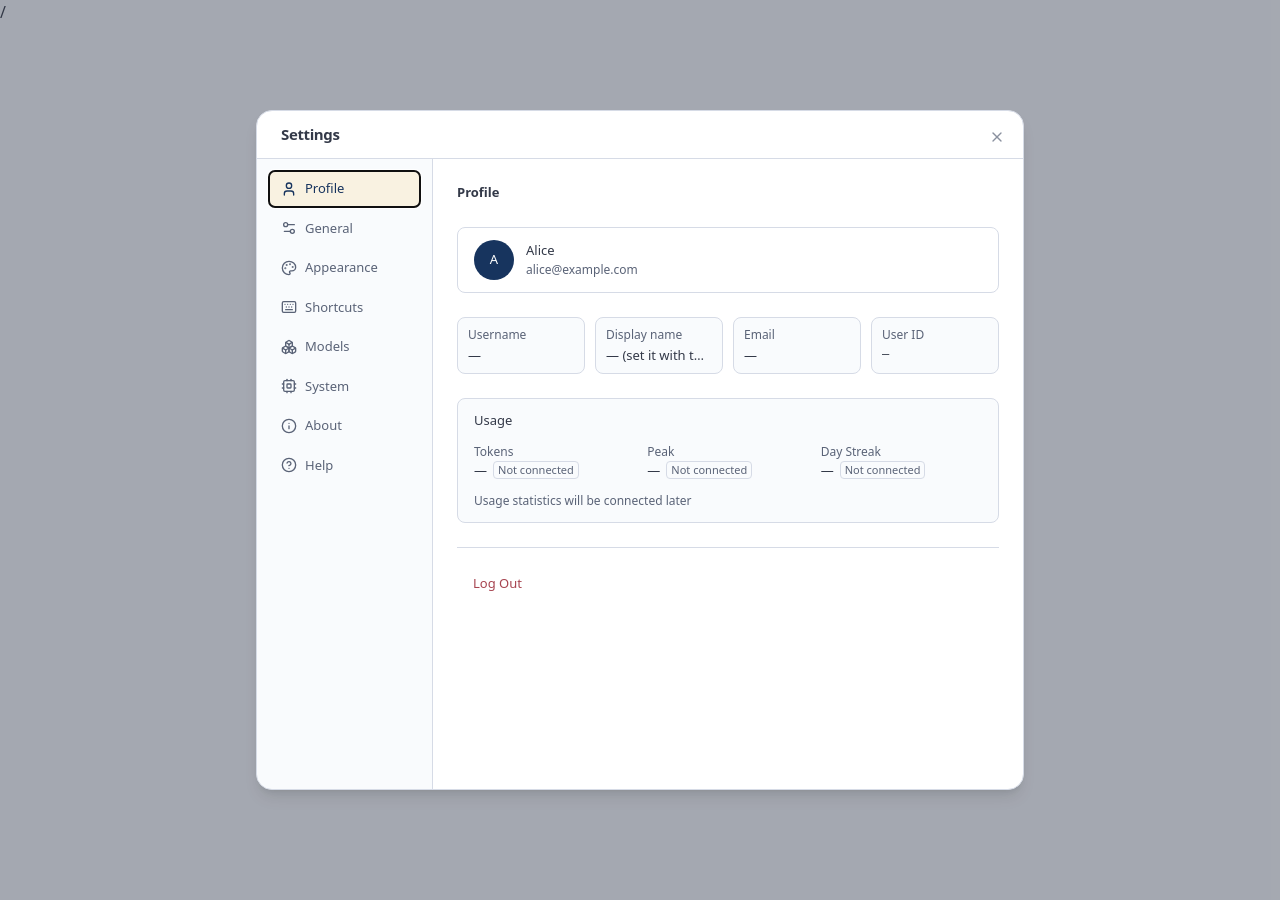
Scenario: SettingsDialog › B-07：匿名用户 → 添加按钮禁用（登录后管理模型）
The image size is (1280, 900).
Click the button with test id "settings-dialog-nav-models".
click(344, 347)  # box [269,329,420,364]
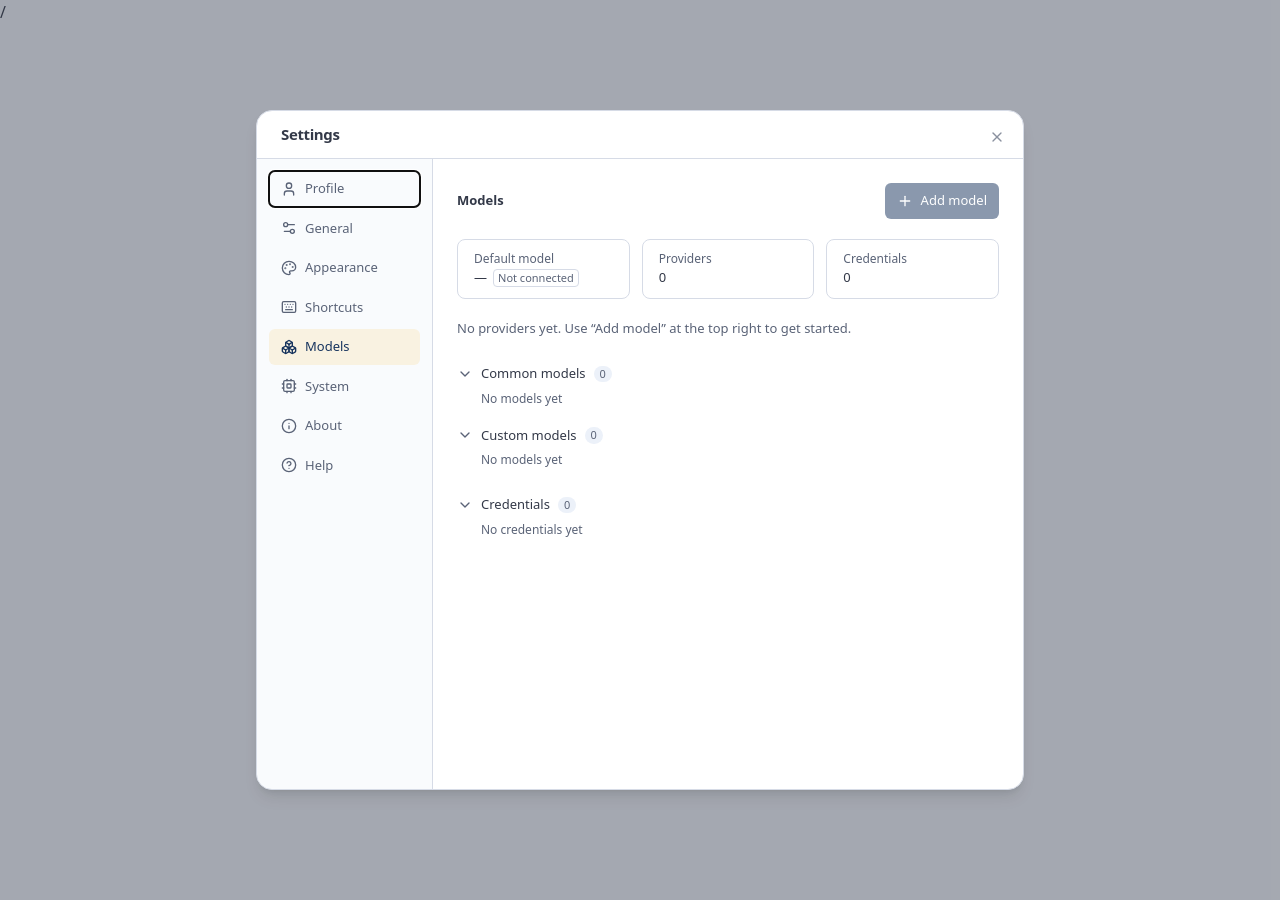
Result: the button with test id "settings-models-add" is disabled at [885,183,999,219]
